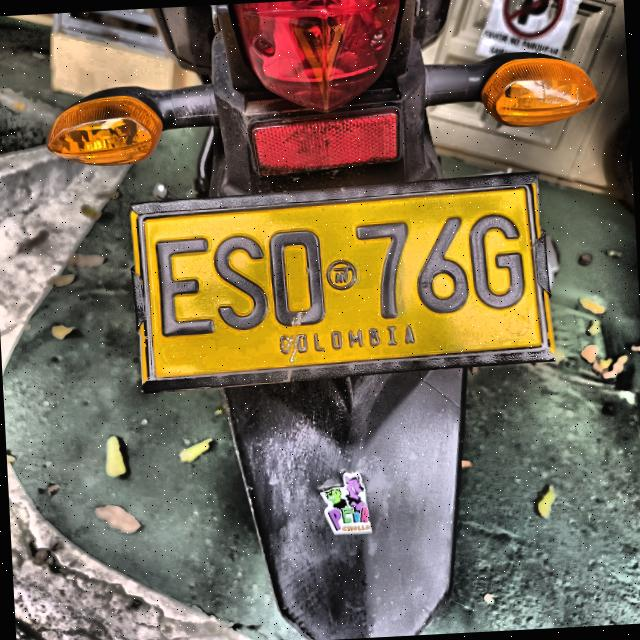plate: (134, 188, 549, 378)
